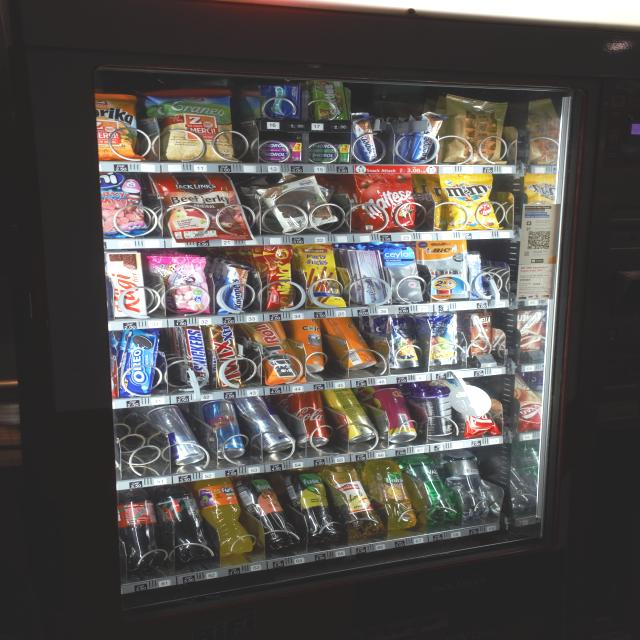airwaves_menthoneucalyptus_riegel_14_1_50173167: (268, 85, 302, 116)
berger____: (253, 173, 342, 236)
berger_schoggitoertli____: (266, 183, 332, 232)
bifi_roll__50__4251097402635: (242, 321, 300, 384)
c-swiss_dosenabisicetea__33__9120025930135: (289, 315, 331, 378)
caferoyal_classicmacchiato__33__7617014164487: (418, 386, 450, 436)
caprisun_multivitamin__20__4000177605004: (416, 308, 465, 368), (376, 311, 424, 372)
coke__flasche_50__54491472: (116, 489, 168, 570), (284, 388, 336, 452)
coke_zero_flasche_50__5449000131836: (156, 482, 214, 561)
comella_schokodrink__33__7613100037253: (459, 306, 504, 364)
fanta___50__40822938: (189, 476, 252, 563)
fini_galaxymix_packung_100_1_8410525150364: (101, 170, 150, 236)
fini_jellykisses_packung_80_1_8410525116704: (151, 253, 207, 312)
fuse_lemon__50__5449000235947: (280, 469, 344, 545)
fuse_lemon_dose_33__5449000235947: (330, 386, 374, 444)
fuse_peach__50__5449000236623: (236, 476, 298, 554)
jacklinks_beefjerkyorginal__25__4047751730219: (147, 168, 256, 242)
jlbrichard_gauffre__90__5410495002000: (448, 96, 503, 164)
kagi___50__7610046000259: (101, 250, 151, 317)
knoppers_riegel____4035800488808: (347, 106, 384, 168), (410, 107, 444, 165), (215, 264, 253, 314)
lorenz_nicnacs__40__4018077798818: (253, 245, 304, 312)
malburner_partysticks__40__7610200279682: (300, 241, 342, 307)
maltesers___100__5000159023061: (346, 170, 424, 237)
mnms_gelb__45__40111445: (437, 170, 504, 232)
oreo___66__84100733: (113, 326, 167, 398)
ramseier_schorle__50__7610057012456: (321, 465, 381, 541)
redbull_light__33__90162800: (199, 398, 247, 458)
skittles_sour_riegel_51_1_: (314, 78, 347, 118)
snickers___50__5000159461122: (173, 324, 210, 385)
stimorol_spearmint_riegel_14_1_: (302, 140, 350, 161)
stimorol_wildcherry_riegel_14_1_57060330: (262, 138, 302, 160)
tiki_himbeerbrause_dose_33_1_: (374, 386, 417, 442)
twix___50__5000159459228: (203, 321, 240, 395)
valser_classic__50__76404160: (396, 450, 461, 528)
valser_still__50__7610335002575: (448, 448, 499, 518)
volvic_pinapple__50__305764335648: (364, 457, 421, 533)
zweifel_graneochilli__100__7610095184009: (145, 85, 247, 165)
zweifel_paprika__90__7610095013002: (88, 92, 140, 162)
